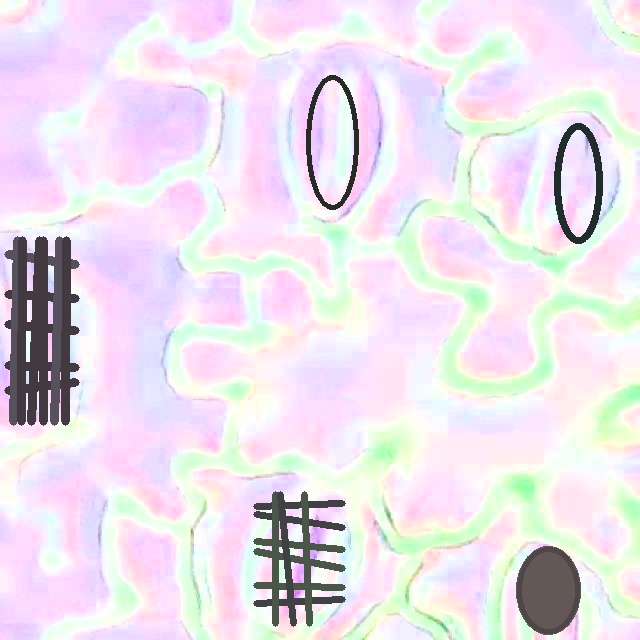open: (4, 236, 79, 425), (253, 491, 345, 626), (305, 74, 359, 209), (553, 123, 603, 243), (517, 546, 579, 634)
